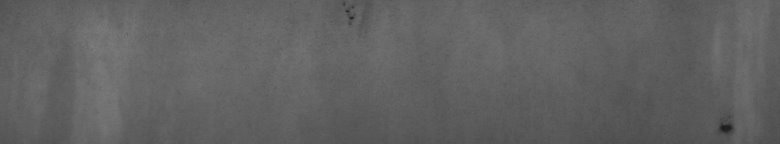fi: (342, 4, 366, 28)
